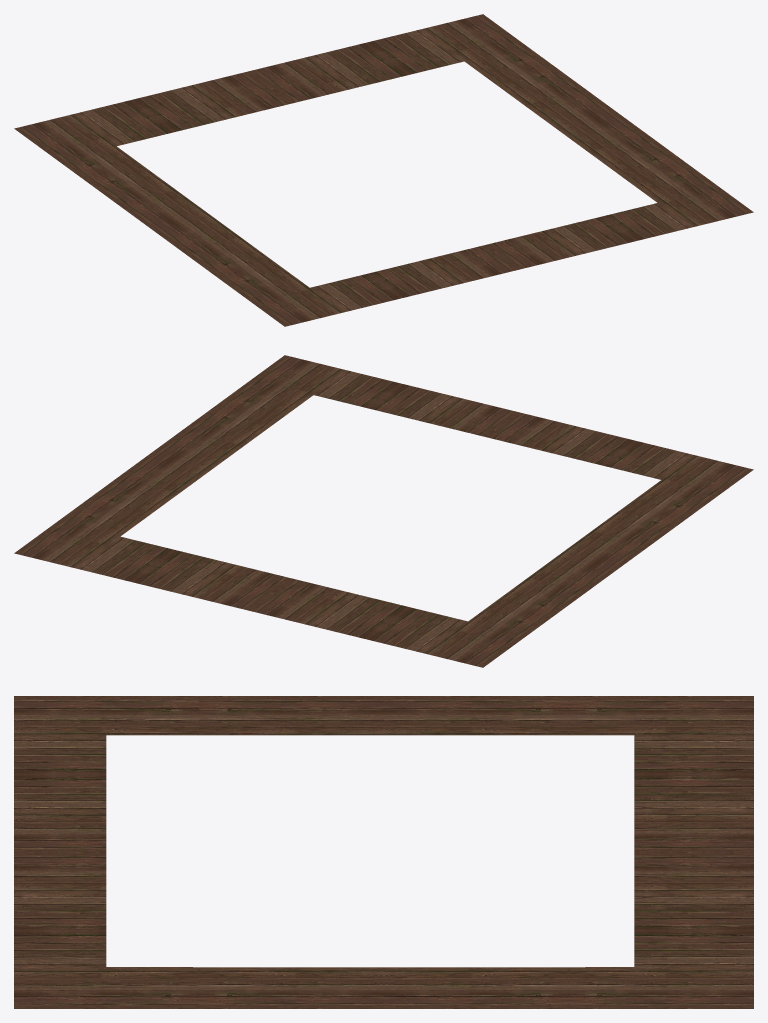
The model's file is 1v1_01_floor_02.FBX.
The picture shows the model from 3 angles, top to bottom: view 1: azimuth 30°, elevation 25°; view 2: azimuth 150°, elevation 25°; view 3: azimuth 270°, elevation 25°; orthographic projection. The views are drawn at different scales.
Visible parts, largest first — view 1: floor02, floor21; view 2: floor02, floor21; view 3: floor02, floor21.
Boxes of the visible parts, x1,y1,x2,y2 form: floor02: [14, 14, 753, 326]; floor21: [310, 203, 690, 312]; floor02: [14, 355, 753, 667]; floor21: [314, 370, 694, 479]; floor02: [14, 696, 753, 1008]; floor21: [14, 735, 106, 966].
Size of the model in its own units: 52.49 by 4.77e-07 by 52.49.
